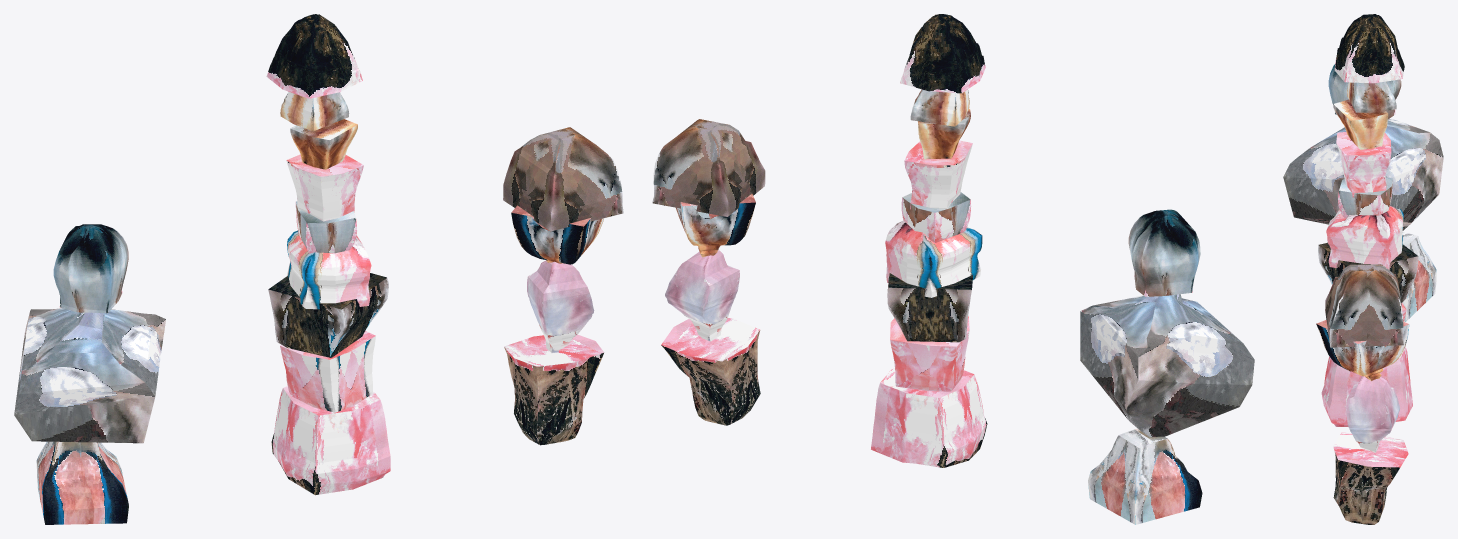
3 renders of one model, left to right at view 1: azimuth 30°, elevation 25°; view 2: azimuth 150°, elevation 25°; view 3: azimuth 270°, elevation 25°, orthographic. The views are drawn at different scales.
Parts seen in each view (by area): view 1: SPLICE_2 (×5), SPLICE_1 (×5), master (×2), SPLICE_3 (×2), splice_1, splice_2; view 2: SPLICE_2 (×5), SPLICE_1 (×5), master (×2), SPLICE_3 (×2), splice_2, splice_1; view 3: SPLICE_2 (×4), SPLICE_1 (×5), master (×2), SPLICE_3 (×2), splice_1, splice_2.
Boxes of the visible parts, box(x1,y1,x2,y2) form: SPLICE_2 (×5): box(14, 205, 603, 495); SPLICE_1 (×5): box(36, 14, 594, 524); master (×2): box(268, 127, 623, 357); SPLICE_3 (×2): box(286, 154, 604, 445); splice_1: box(290, 119, 357, 169); splice_2: box(280, 92, 349, 131); SPLICE_2 (×5): box(675, 194, 1254, 467); SPLICE_1 (×5): box(665, 14, 1202, 524); master (×2): box(652, 119, 972, 342); SPLICE_3 (×2): box(661, 140, 972, 425); splice_2: box(910, 89, 969, 126); splice_1: box(918, 106, 970, 159); SPLICE_2 (×4): box(1283, 64, 1443, 426); SPLICE_1 (×5): box(1326, 14, 1436, 452); master (×2): box(1318, 242, 1418, 347); SPLICE_3 (×2): box(1333, 132, 1408, 524); splice_1: box(1333, 99, 1388, 149); splice_2: box(1347, 81, 1396, 112).
Bounding box in the file's own units: 9.01 × 6.92 × 2.44.
Materials: 16 (16 with a texture image).
